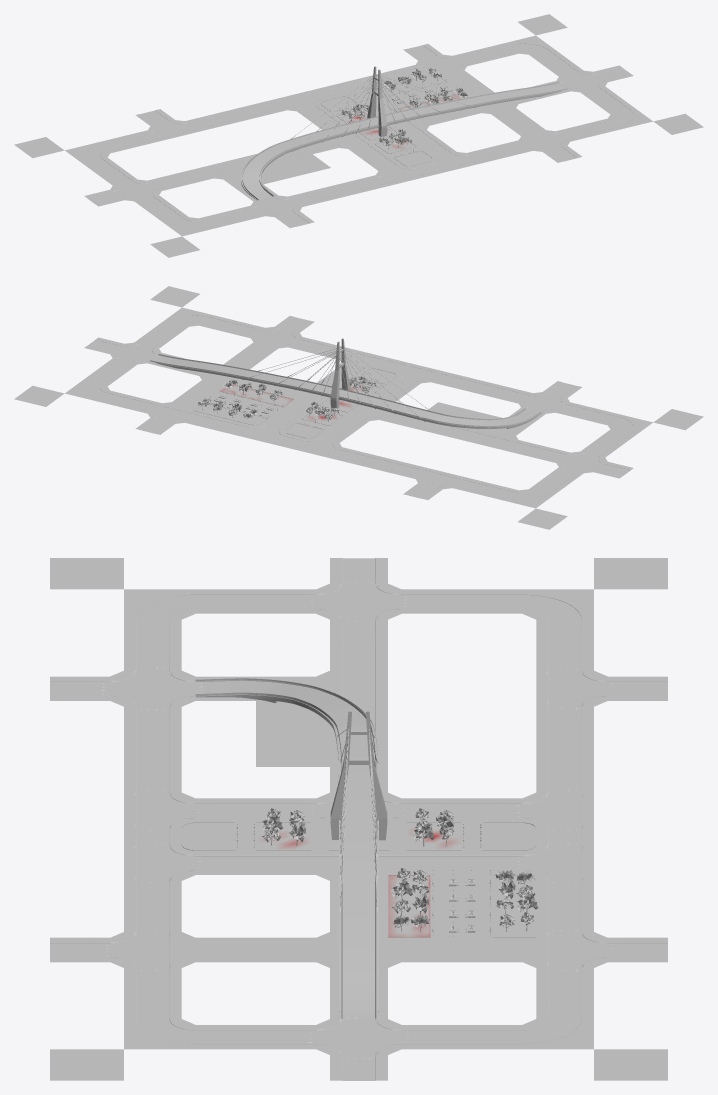
The model's file is Double-Block-06.fbx.
3 renders of one model, top to bottom at view 1: azimuth 30°, elevation 25°; view 2: azimuth 150°, elevation 25°; view 3: azimuth 270°, elevation 25°, orthographic. The views are drawn at different scales.
Parts seen in each view (by area): view 1: Double Block-06, Double Block-06-Sidewalk, Trees; view 2: Double Block-06, Double Block-06-Sidewalk, Trees; view 3: Double Block-06, Double Block-06-Sidewalk, Trees, Flowerbed.
Part boxes in pixels (x1,y1,x2,y2): Double Block-06: (14, 14, 703, 257); Double Block-06-Sidewalk: (65, 35, 652, 236); Trees: (341, 68, 467, 149); Double Block-06: (14, 286, 703, 529); Double Block-06-Sidewalk: (65, 307, 652, 508); Trees: (198, 376, 376, 421); Double Block-06: (50, 558, 667, 1080); Double Block-06-Sidewalk: (50, 558, 667, 1080); Trees: (261, 808, 538, 932); Flowerbed: (236, 825, 490, 932).
Size of what is drawn, in the model's own units: 60000 by 6803 by 30000.
